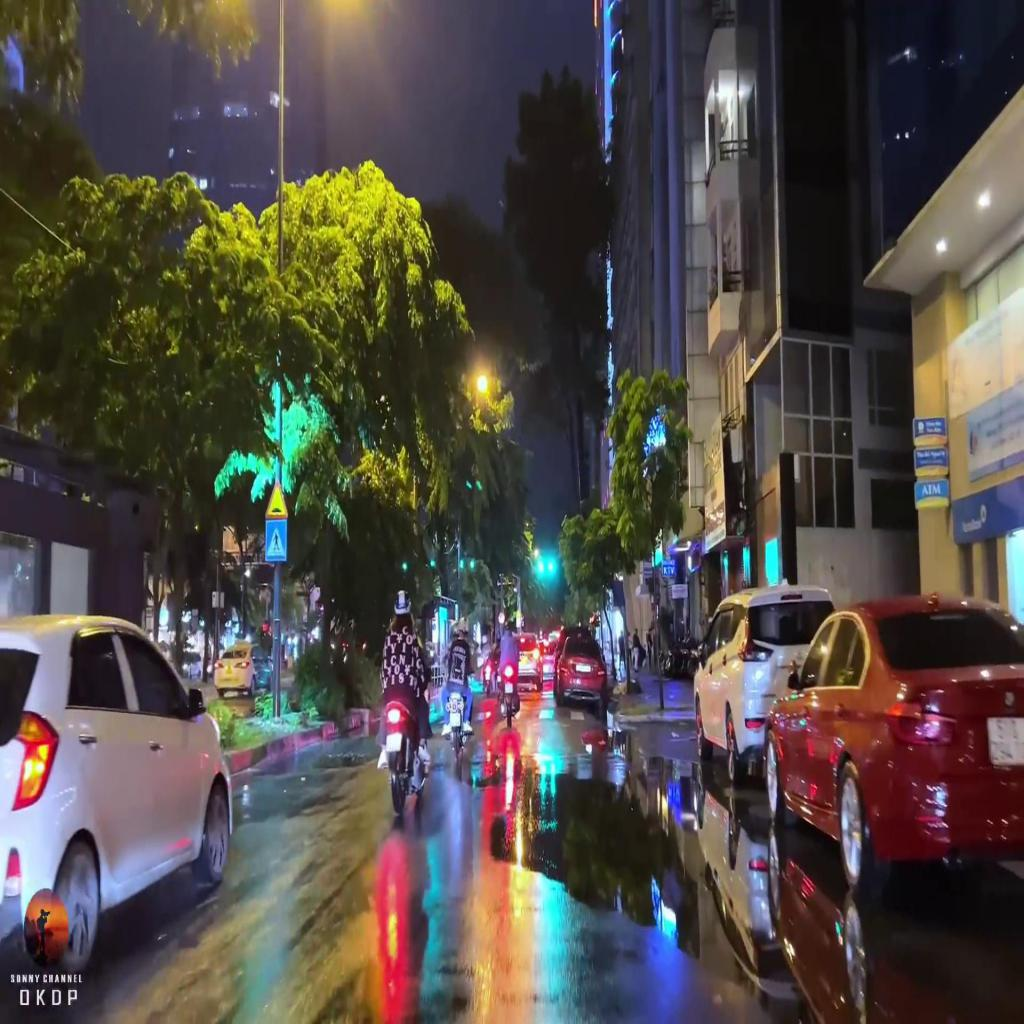duong_co_song_map_mo_nhan_tao: (264, 477, 290, 522)
duong_nguoi_di_bo_sang_ngang: (265, 519, 287, 561)
